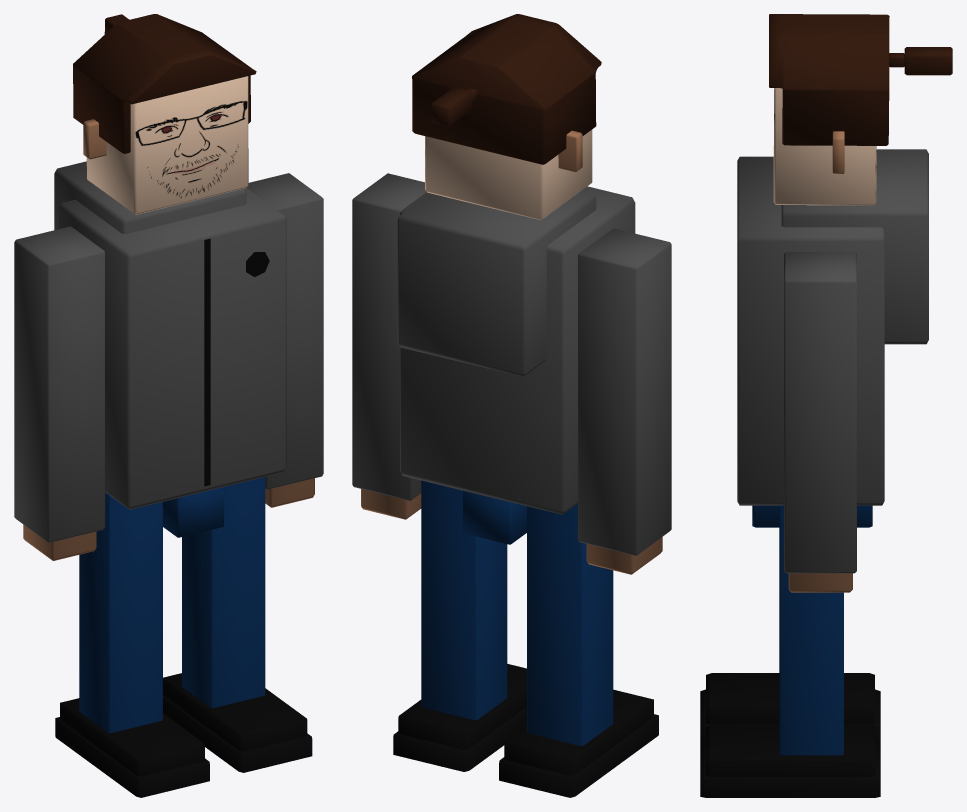
The model's file is Marko.FBX.
3 renders of one model, left to right at view 1: azimuth 30°, elevation 25°; view 2: azimuth 150°, elevation 25°; view 3: azimuth 270°, elevation 25°, orthographic. The views are drawn at different scales.
Parts seen in each view (by area): view 1: Body, Head, RArm, RLeg, LLeg, LArm, RFoot, LFoot, Pelvis; view 2: Body, RArm, Head, RLeg, LLeg, LArm, RFoot, LFoot, Pelvis; view 3: Body, LArm, Head, LLeg, LFoot, RFoot, Pelvis.
Boxes of the visible parts, left/top/right/bottom form: Body: left=54, top=161, right=286, bottom=509; Head: left=73, top=14, right=256, bottom=214; RArm: left=14, top=226, right=105, bottom=560; RLeg: left=79, top=492, right=162, bottom=733; LLeg: left=182, top=477, right=265, bottom=708; LArm: left=246, top=173, right=323, bottom=507; RFoot: left=55, top=698, right=209, bottom=797; LFoot: left=163, top=673, right=312, bottom=772; Pelvis: left=163, top=487, right=223, bottom=537; Body: left=397, top=186, right=635, bottom=514; RArm: left=578, top=228, right=671, bottom=574; Head: left=412, top=14, right=601, bottom=220; RLeg: left=527, top=503, right=613, bottom=745; LLeg: left=421, top=480, right=507, bottom=720; LArm: left=352, top=173, right=426, bottom=519; RFoot: left=499, top=689, right=658, bottom=797; LFoot: left=393, top=664, right=526, bottom=771; Pelvis: left=463, top=490, right=526, bottom=544; Body: left=737, top=149, right=928, bottom=505; LArm: left=784, top=252, right=856, bottom=592; Head: left=769, top=14, right=952, bottom=205; LLeg: left=779, top=505, right=843, bottom=755; LFoot: left=700, top=725, right=880, bottom=797; RFoot: left=700, top=673, right=880, bottom=743; Pelvis: left=752, top=505, right=872, bottom=527.
Bounding box in the file's own units: 134 × 321 × 101.
